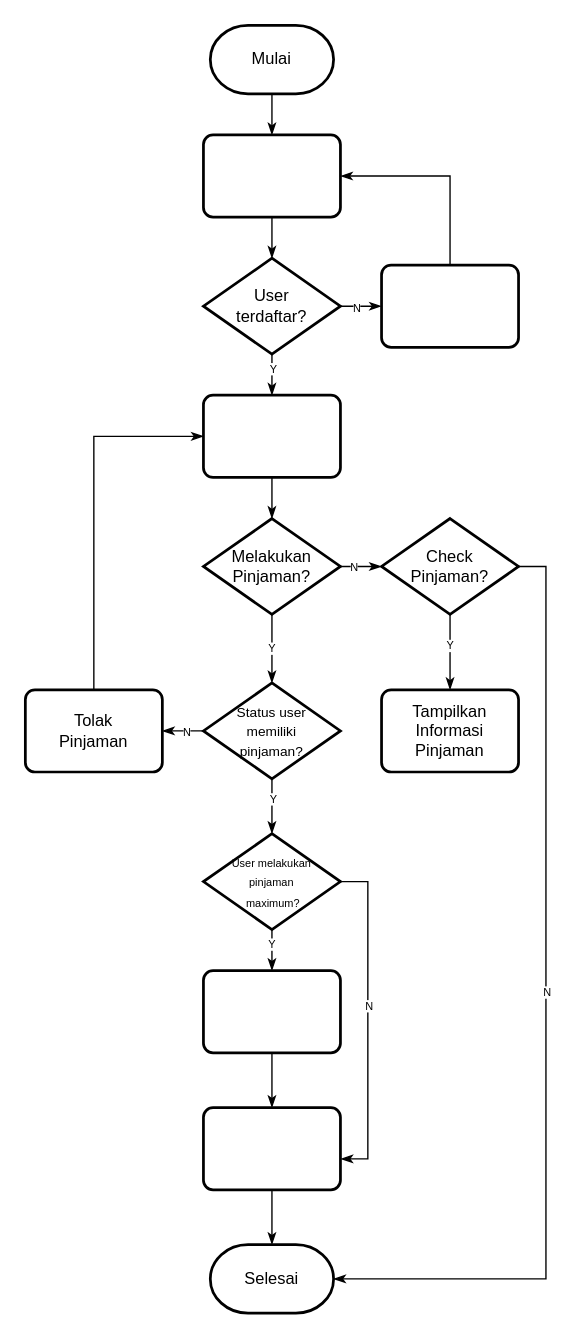
Some shapes in this 581 by 1337 pixel diagram are drawn without their labels. Each missing label, with the centre of its shape:
"jumlah pinjaman max & tenor 1 tahun" belongs at pixel 271 1011.
"Login" belongs at pixel 271 175.
"Main Menu" belongs at pixel 271 435.
"Pinjaman Diterima" belongs at pixel 271 1148.
"Registrasi/Sign Up" belongs at pixel 449 305.
